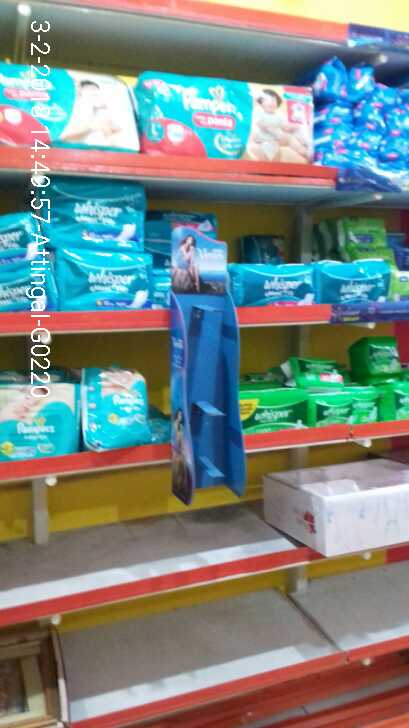pharmacy: (137, 70, 317, 162), (1, 76, 139, 147), (39, 176, 146, 248), (57, 246, 155, 308), (1, 386, 79, 456), (84, 374, 151, 447), (231, 264, 318, 306), (229, 391, 311, 435), (316, 262, 390, 305), (307, 386, 378, 429), (358, 336, 407, 376)
